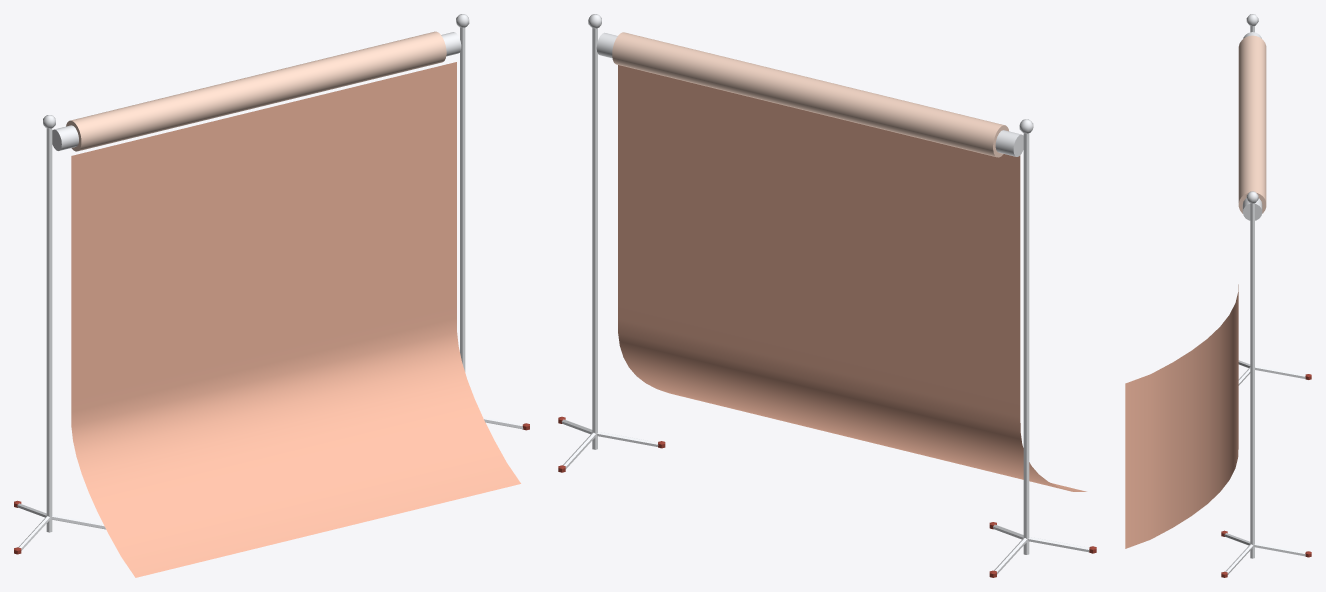
Rendered from backdrop_roll_stand.glb.
3 views of the same model, side by side, from view 1: azimuth 30°, elevation 25°; view 2: azimuth 150°, elevation 25°; view 3: azimuth 270°, elevation 25° (orthographic). The views are drawn at different scales.
Visible parts, largest first — view 1: backdrop_roll_stand; view 2: backdrop_roll_stand; view 3: backdrop_roll_stand.
Part boxes in pixels (x1,y1,x2,y2): backdrop_roll_stand: [14, 14, 529, 577]; backdrop_roll_stand: [558, 14, 1096, 577]; backdrop_roll_stand: [1125, 14, 1311, 577].
Size of the model in its own units: 3.74 by 2.88 by 1.33.
